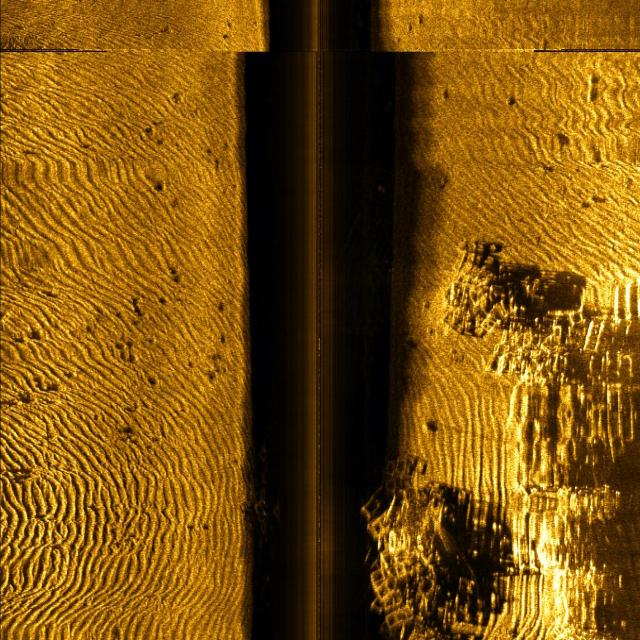artificial reef: (363, 430, 487, 640), (439, 230, 593, 397), (252, 421, 286, 554)
